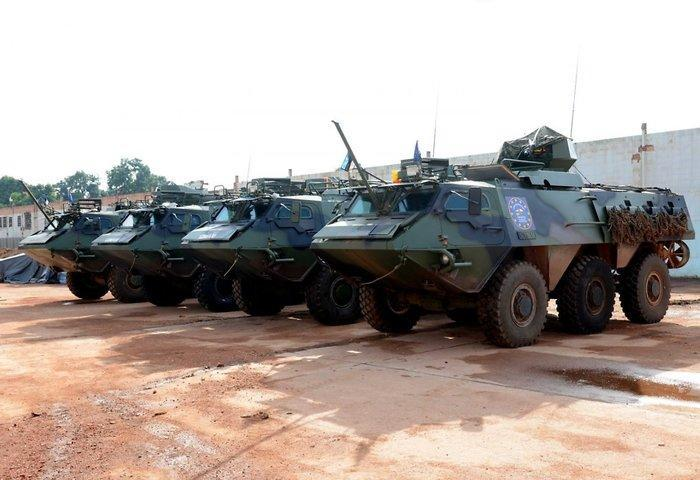MIL_IFV: (311, 124, 696, 348), (187, 178, 369, 318), (94, 187, 225, 308), (15, 200, 134, 303)
